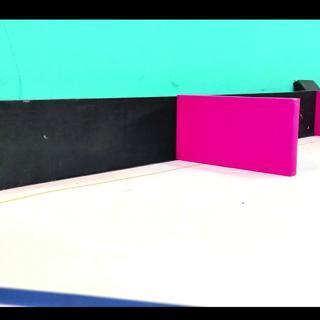xparking: (186, 101, 294, 172)
